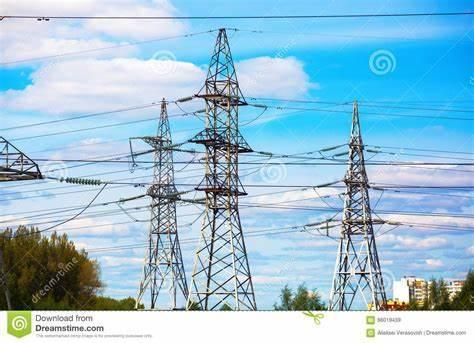power_tower: (178, 23, 264, 311), (309, 100, 397, 312), (127, 99, 193, 310)
